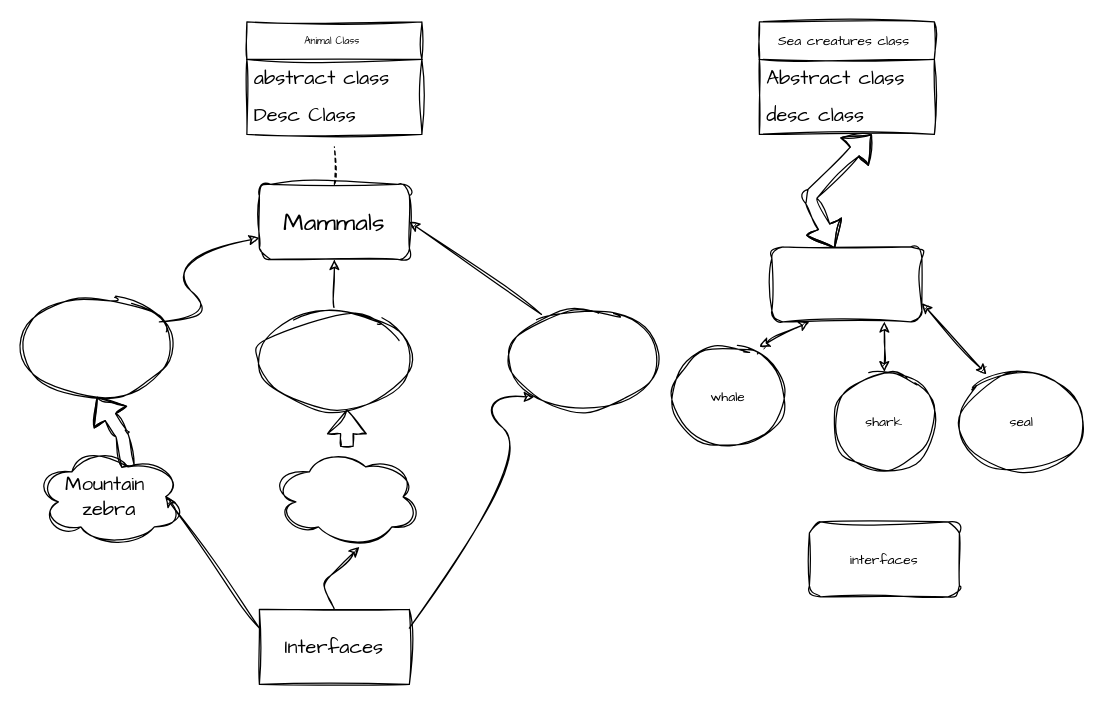
This 1106x706 diagram has some shape labels left out. Here are the shapes that lost their labels. From the top down, the centre of each, then its label:
(x=846, y=284): Sea Creatures
(x=96, y=346): Zebras
(x=333, y=358): Tigers
(x=583, y=358): Turtles
(x=346, y=496): white tiger
